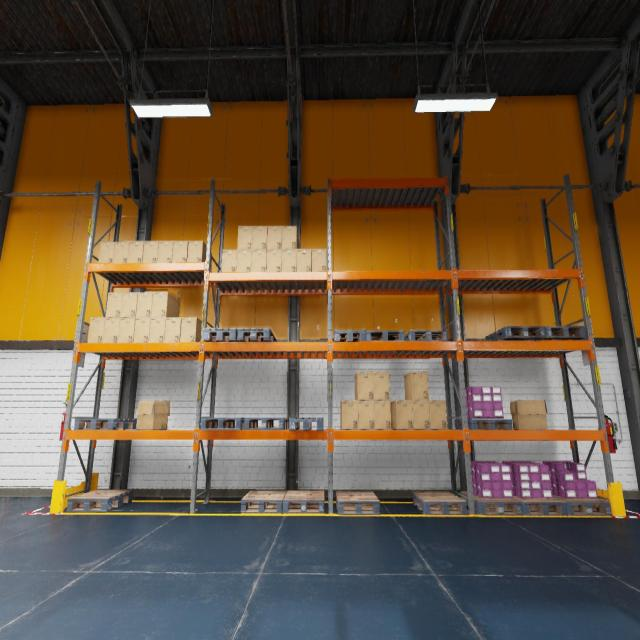box: (510, 400, 548, 430), (136, 400, 170, 430), (187, 240, 212, 270), (151, 292, 180, 317), (404, 372, 429, 400), (180, 317, 207, 342), (391, 400, 413, 430), (354, 372, 374, 400), (429, 400, 447, 430), (412, 400, 430, 430), (374, 400, 392, 430), (358, 400, 375, 430), (341, 400, 358, 430), (373, 372, 390, 400), (148, 317, 166, 342), (120, 292, 138, 317), (105, 292, 123, 317), (102, 318, 120, 342), (87, 318, 105, 342), (164, 317, 181, 342), (118, 318, 135, 342), (136, 292, 152, 317), (134, 318, 150, 342), (282, 225, 298, 249), (142, 240, 159, 262), (127, 241, 144, 263), (98, 241, 115, 263), (221, 249, 237, 272), (267, 225, 282, 249), (113, 241, 129, 263), (296, 249, 312, 271), (266, 250, 282, 272), (236, 250, 252, 272), (252, 226, 267, 249), (172, 241, 188, 262), (157, 241, 173, 262), (312, 249, 327, 271), (251, 250, 266, 272), (238, 226, 252, 249), (282, 250, 296, 272)
pallets: (66, 489, 133, 512), (460, 492, 523, 515), (412, 491, 467, 515), (552, 494, 612, 516), (240, 490, 287, 513), (513, 496, 567, 516), (336, 492, 380, 514), (283, 490, 324, 513), (524, 326, 586, 340), (486, 326, 546, 340), (74, 418, 137, 430), (455, 419, 512, 430), (200, 417, 244, 430), (244, 418, 288, 430), (237, 328, 277, 341), (203, 328, 238, 342), (405, 330, 448, 341), (289, 417, 323, 430), (366, 330, 405, 341), (334, 329, 366, 341)
